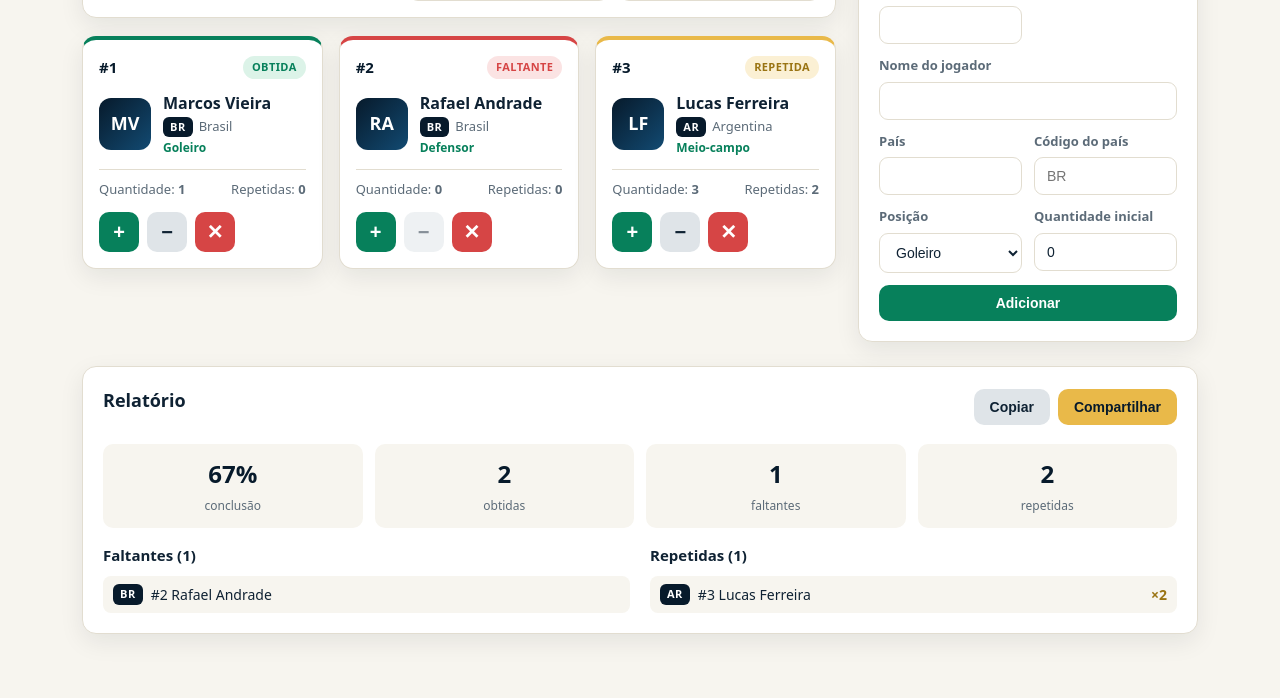
Test: cópia do relatório › copia o relatório para a área de transferência ao clicar em Copiar
(page scrolled)
Click the button "Copiar": (1012, 407) left=974, top=389, right=1050, bottom=425
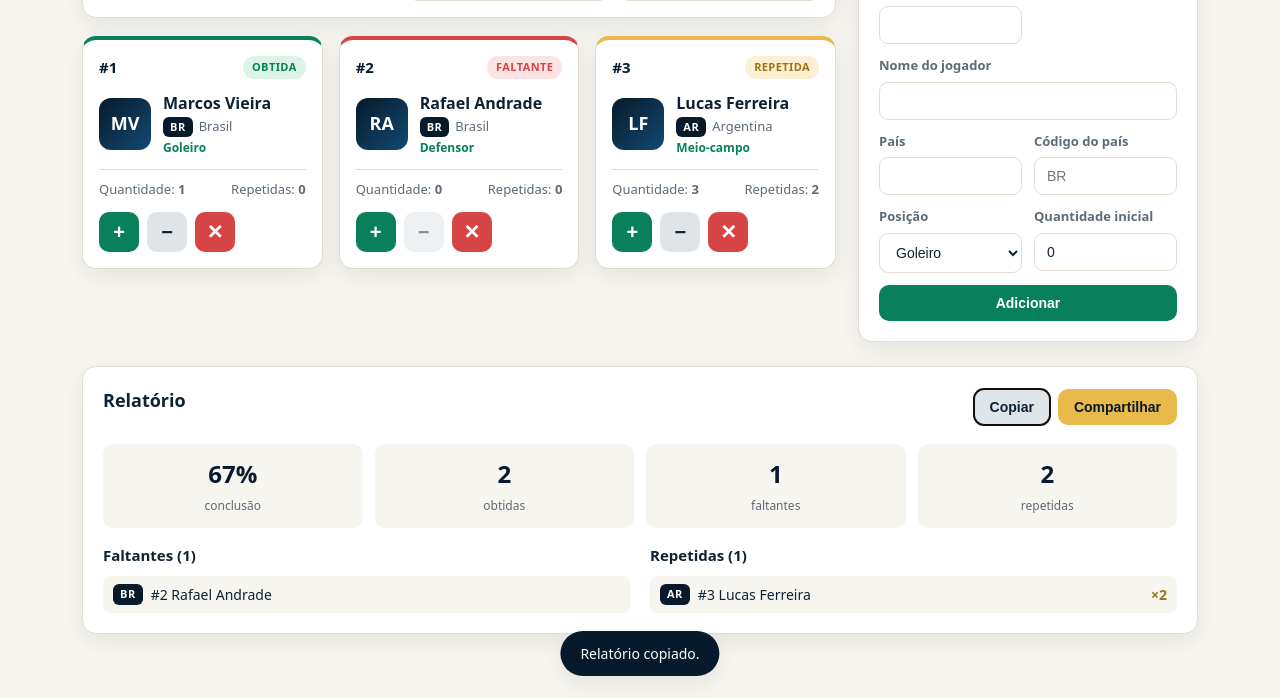
expect the text "Relatório copiado." is shown: met, box left=560, top=631, right=720, bottom=676
